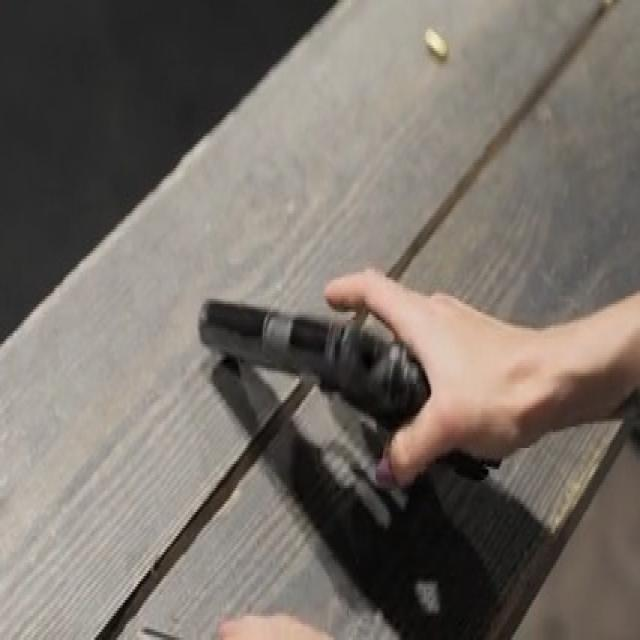Gun_Holder: (175, 258, 497, 502)
